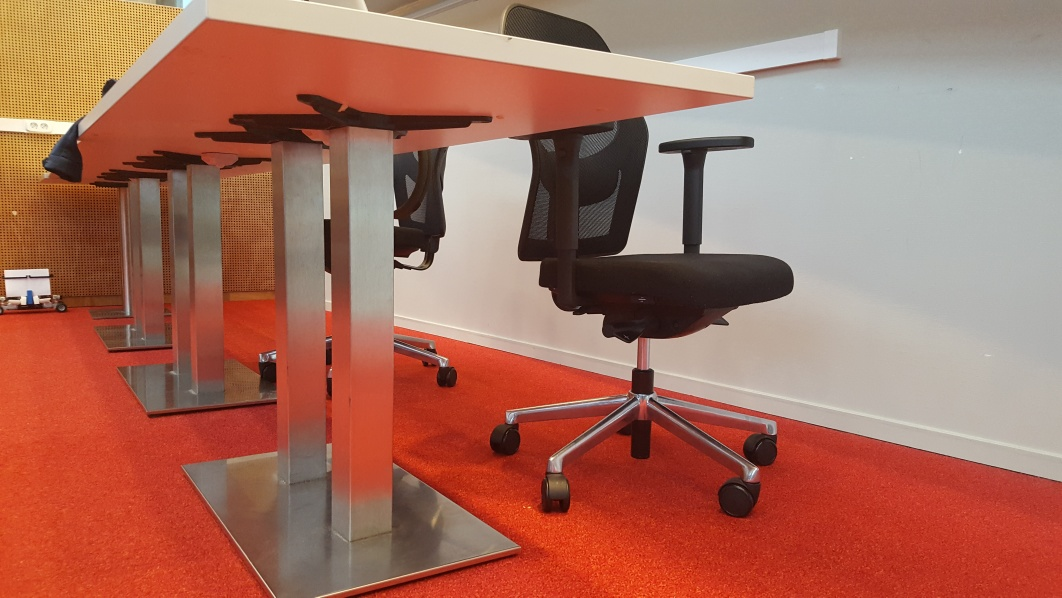car: (3, 266, 69, 314)
